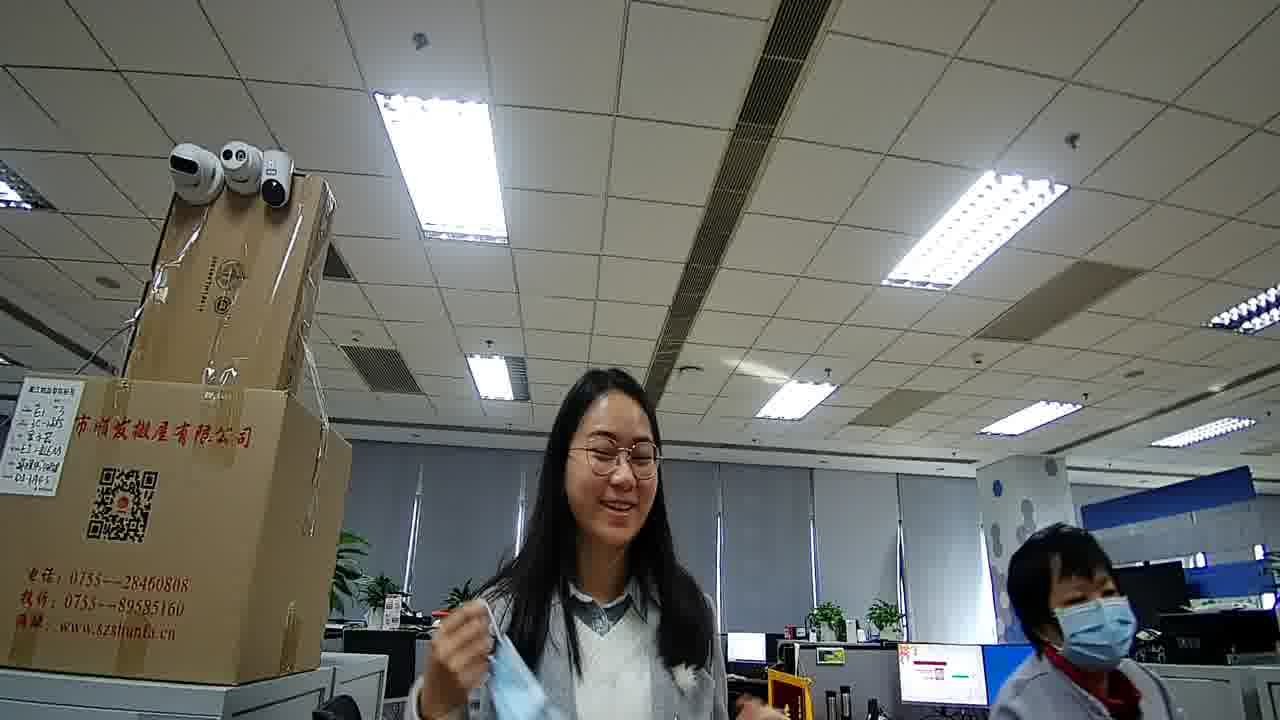face: (563, 398, 662, 544), (1051, 572, 1136, 665)
mask: (1065, 604, 1131, 661)
person: (470, 345, 714, 676), (979, 522, 1157, 719)
